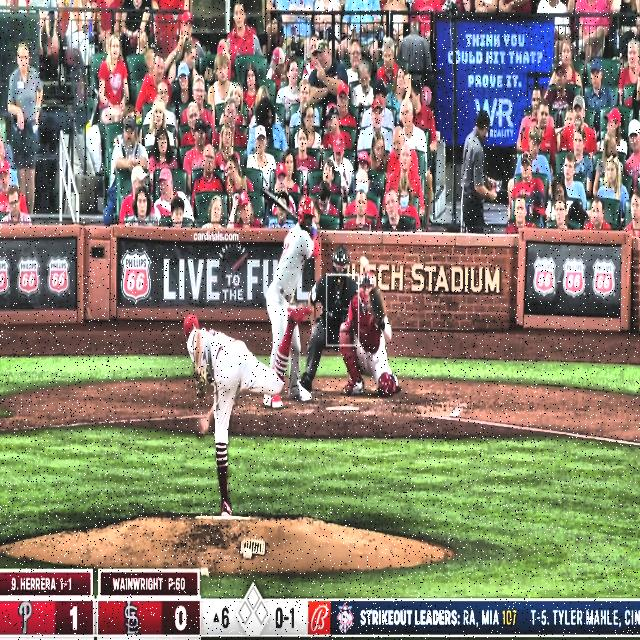baseball: (359, 256, 368, 270)
